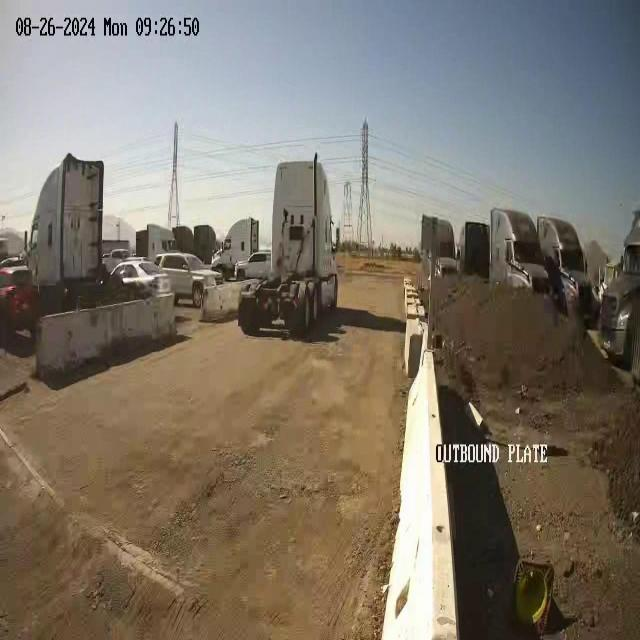BOBTAIL: (237, 152, 339, 338)
